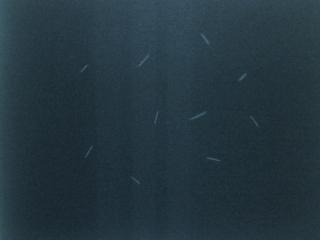scratch: (183, 102, 216, 129), (244, 105, 265, 136), (131, 46, 155, 73), (191, 27, 219, 50), (70, 58, 99, 78), (77, 140, 102, 163), (124, 168, 146, 192), (231, 66, 253, 89), (199, 150, 225, 169), (148, 106, 166, 130)
